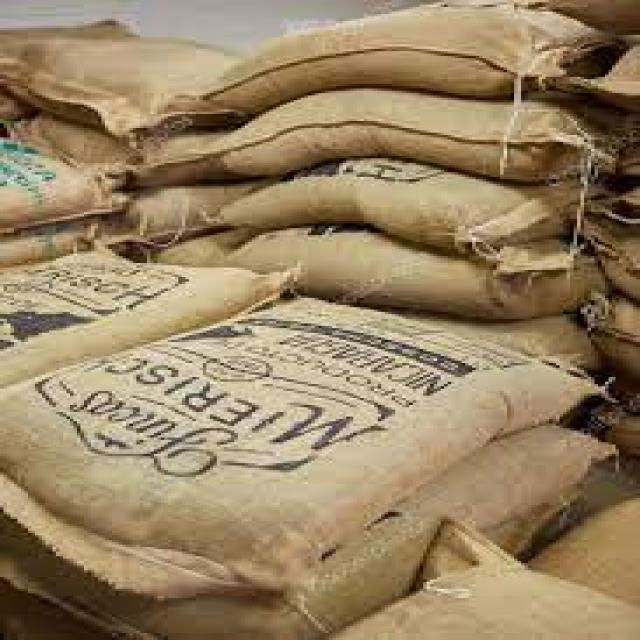gunny_bag: (7, 296, 588, 594), (0, 422, 622, 640), (0, 250, 299, 406), (228, 218, 634, 320), (214, 91, 612, 185), (206, 2, 601, 96), (0, 15, 270, 136), (210, 160, 549, 252), (0, 141, 134, 233)
